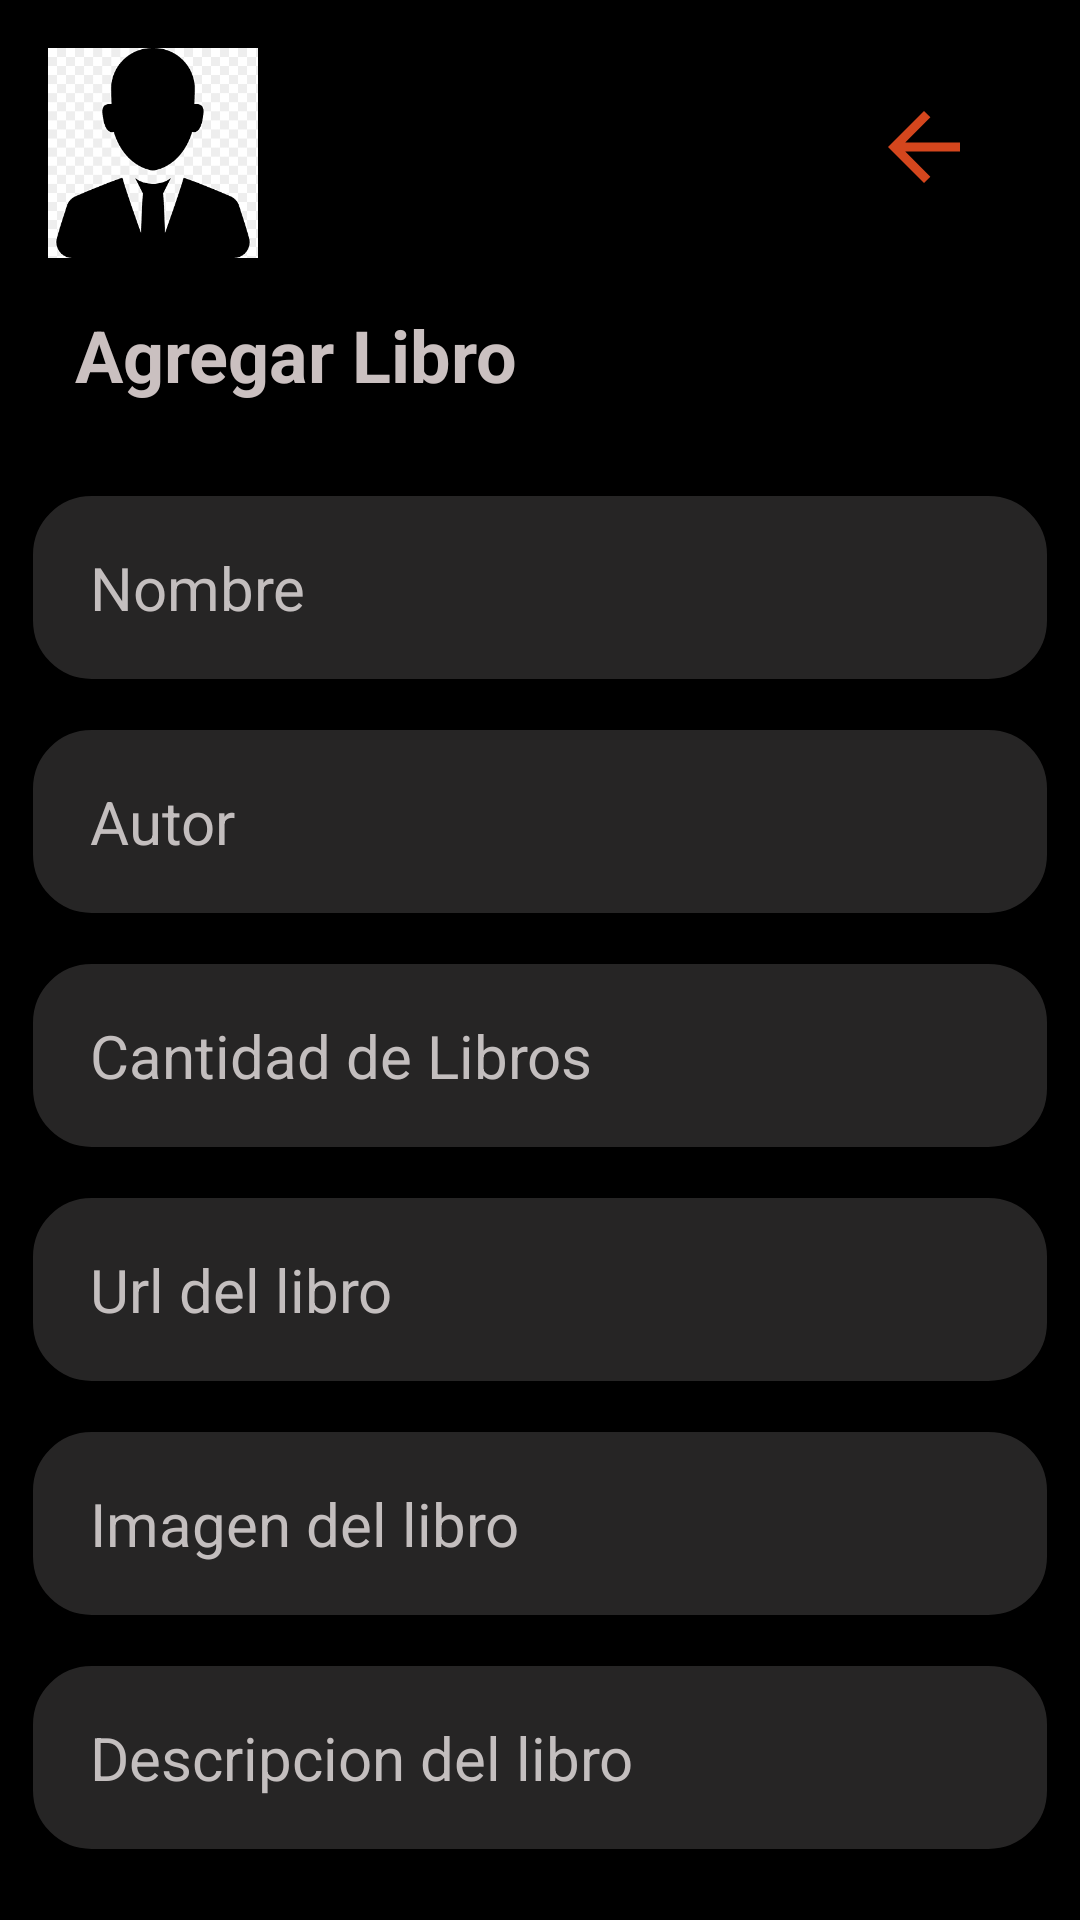

Named icons in this screenshot (1080 x 1920) and their bounding boxes, (x1, y1, x2, y2):
admin: (48, 48, 258, 258)
back flecha: (888, 111, 960, 183)
